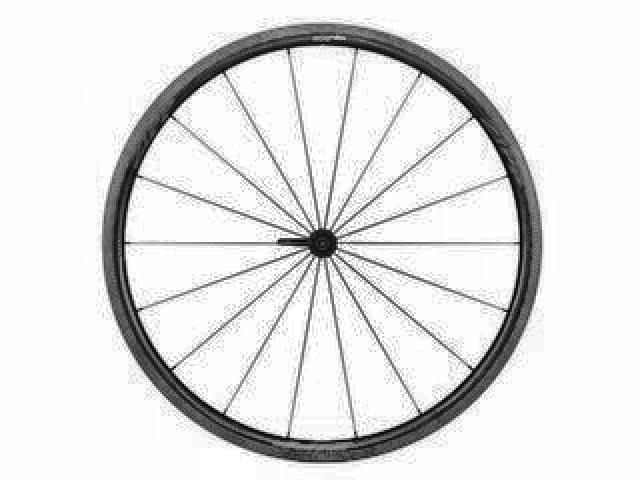wheel: (100, 19, 542, 465)
